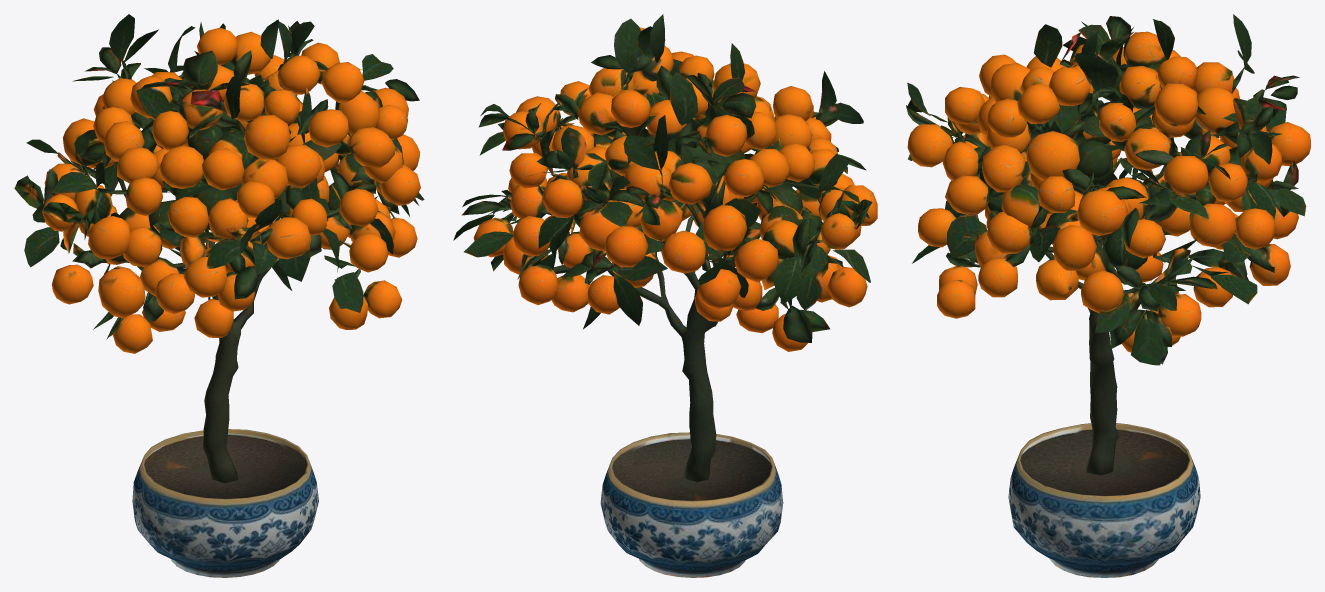
File: chauquat.glb
3 renders of one model, left to right at view 1: azimuth 30°, elevation 25°; view 2: azimuth 150°, elevation 25°; view 3: azimuth 270°, elevation 25°, orthographic. The views are drawn at different scales.
Bounding box in the file's own units: 0.7588 × 0.9531 × 0.6318.
1 material, 1 textured.
